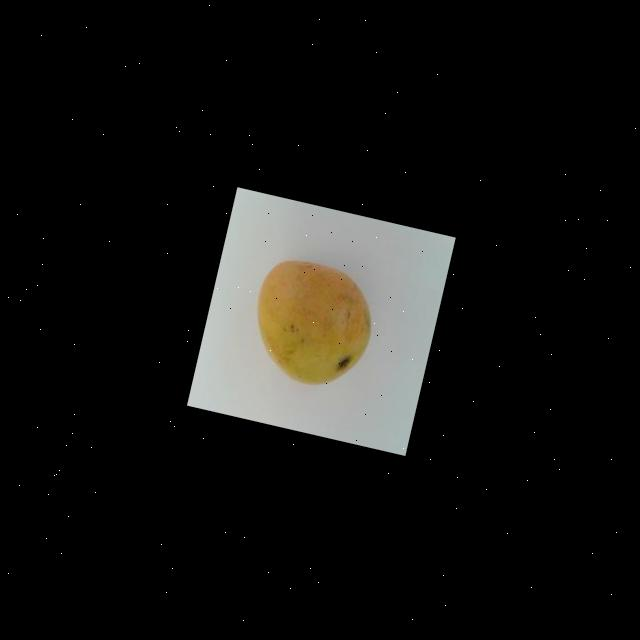Mango: (240, 251, 383, 396)
